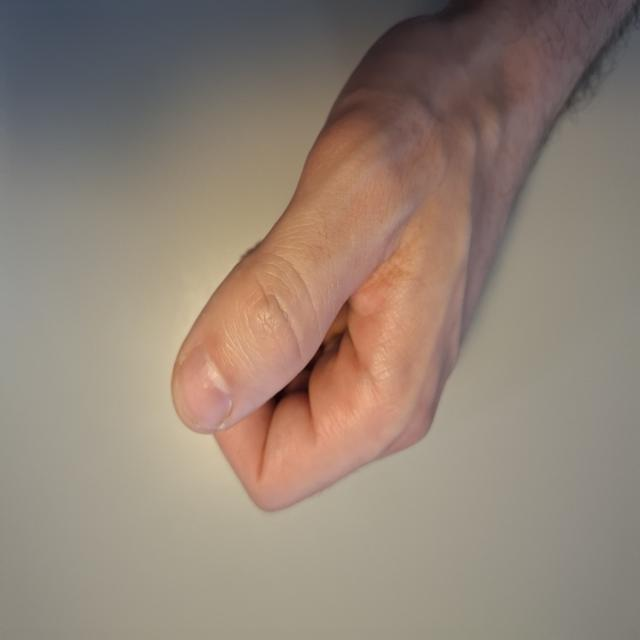glove_off: (168, 4, 580, 517)
